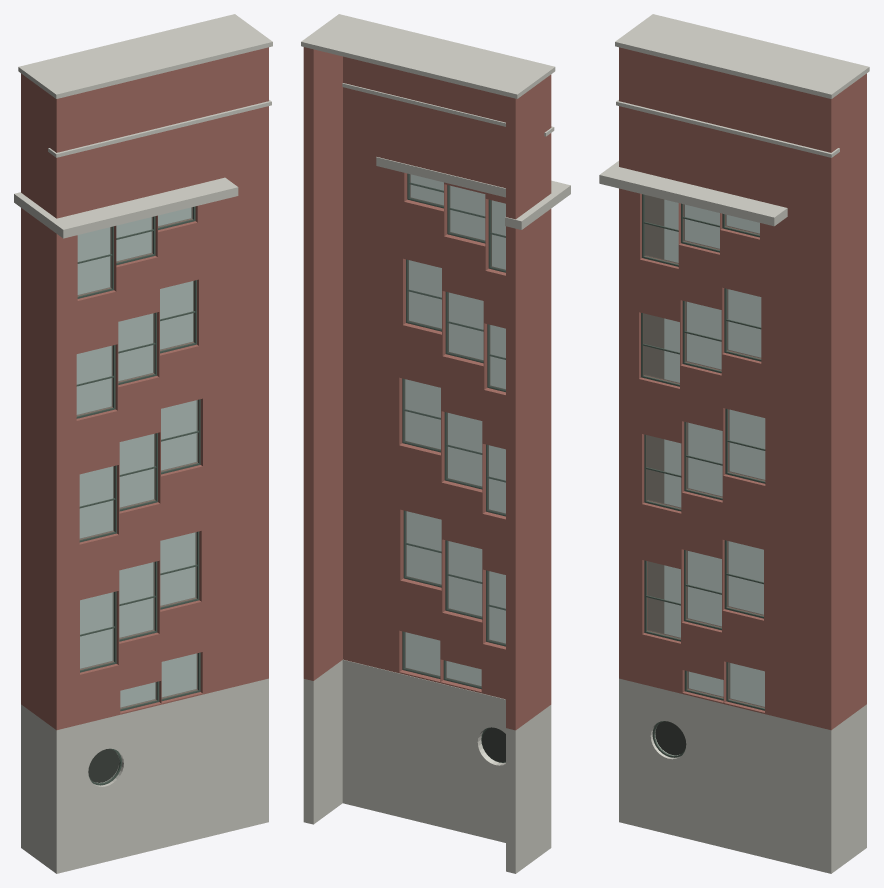
File: lod-source.glb
The picture shows the model from 3 angles, left to right: view 1: azimuth 30°, elevation 25°; view 2: azimuth 150°, elevation 25°; view 3: azimuth 330°, elevation 25°; orthographic projection.
Visible parts, largest first — view 1: 私立妇孺医院旧院临街楼梯间与阶梯钢窗; view 2: 私立妇孺医院旧院临街楼梯间与阶梯钢窗; view 3: 私立妇孺医院旧院临街楼梯间与阶梯钢窗.
Part boxes in pixels (x1,y1,x2,y2): 私立妇孺医院旧院临街楼梯间与阶梯钢窗: [14, 14, 272, 873]; 私立妇孺医院旧院临街楼梯间与阶梯钢窗: [301, 14, 570, 873]; 私立妇孺医院旧院临街楼梯间与阶梯钢窗: [599, 14, 869, 873].
Bounding box in the file's own units: 5.15 × 17.4 × 1.99.
